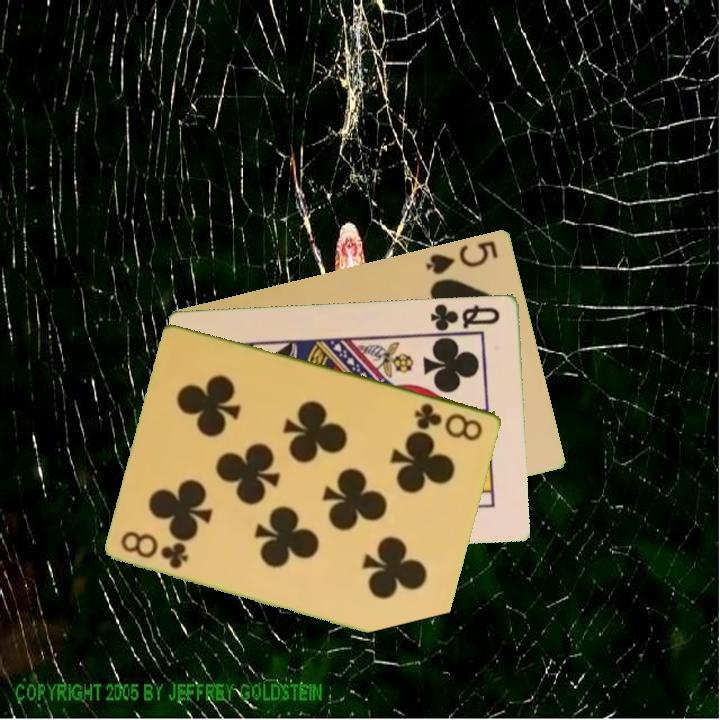5s: (422, 237, 502, 277)
8c: (411, 399, 486, 444), (117, 528, 192, 572)
Qc: (426, 300, 504, 336)
